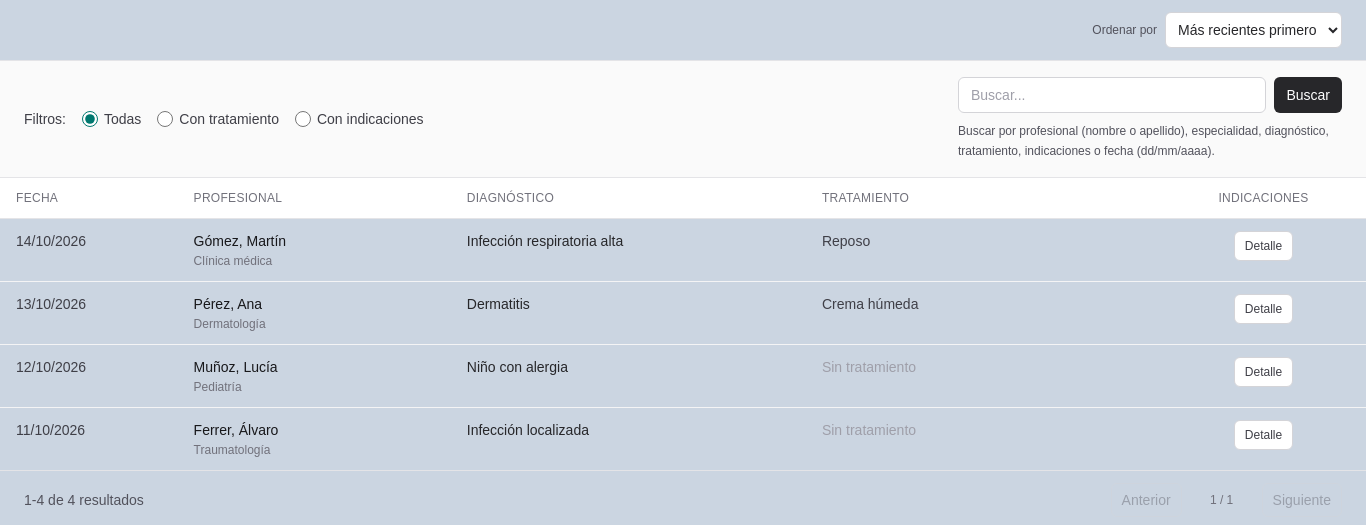
Scenario: SIG-BUG-02: resultados de búsqueda del historial › exige todos los términos dentro de la misma atención: infeccion inexistente
This screenshot has width=1366, height=525.
In the search field: (1112, 95) [958, 77, 1266, 113], type "infeccion inexistente"
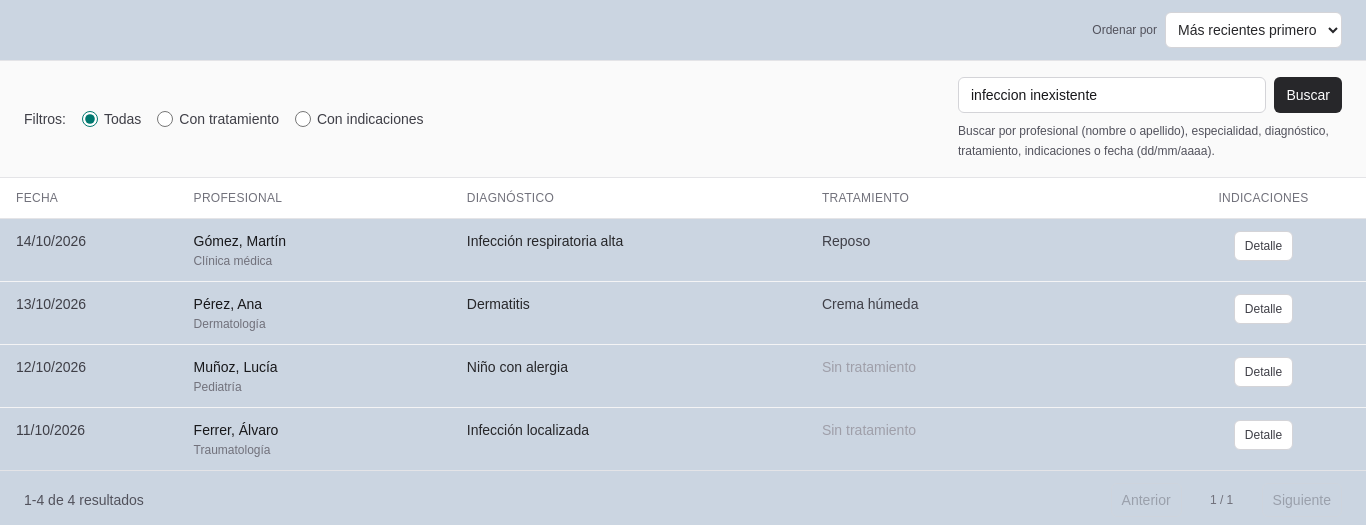
Click the button "Buscar": (1308, 95) [1274, 77, 1342, 113]
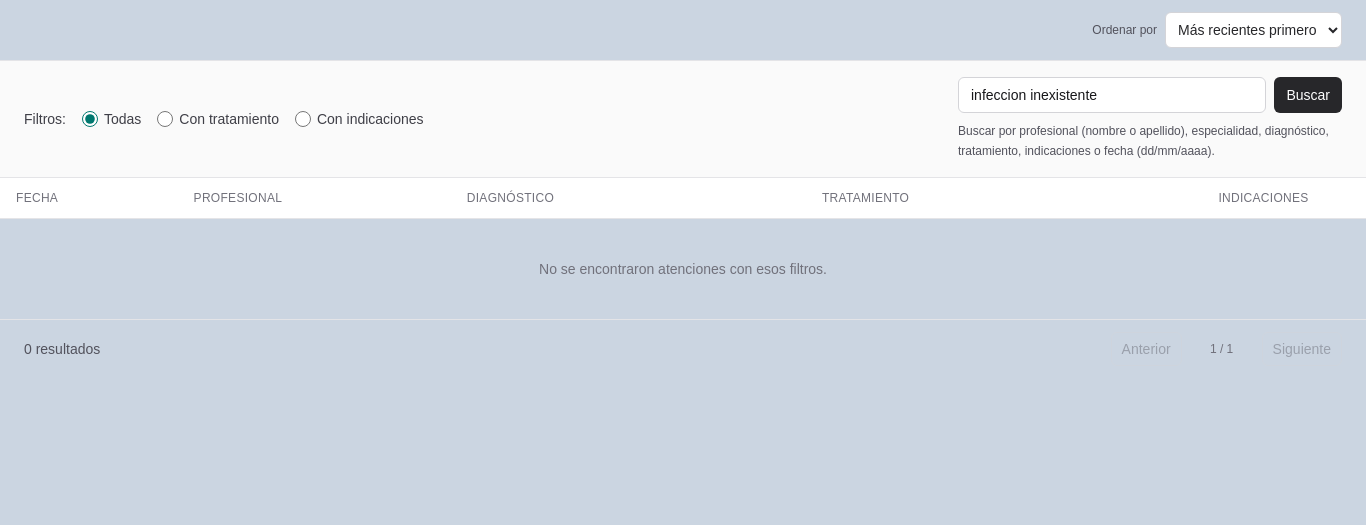
Now the text "0 resultados" is shown, box [24, 339, 100, 359]
Now the text "No se encontraron atenciones con esos filtros." is shown, box [0, 218, 1365, 319]
